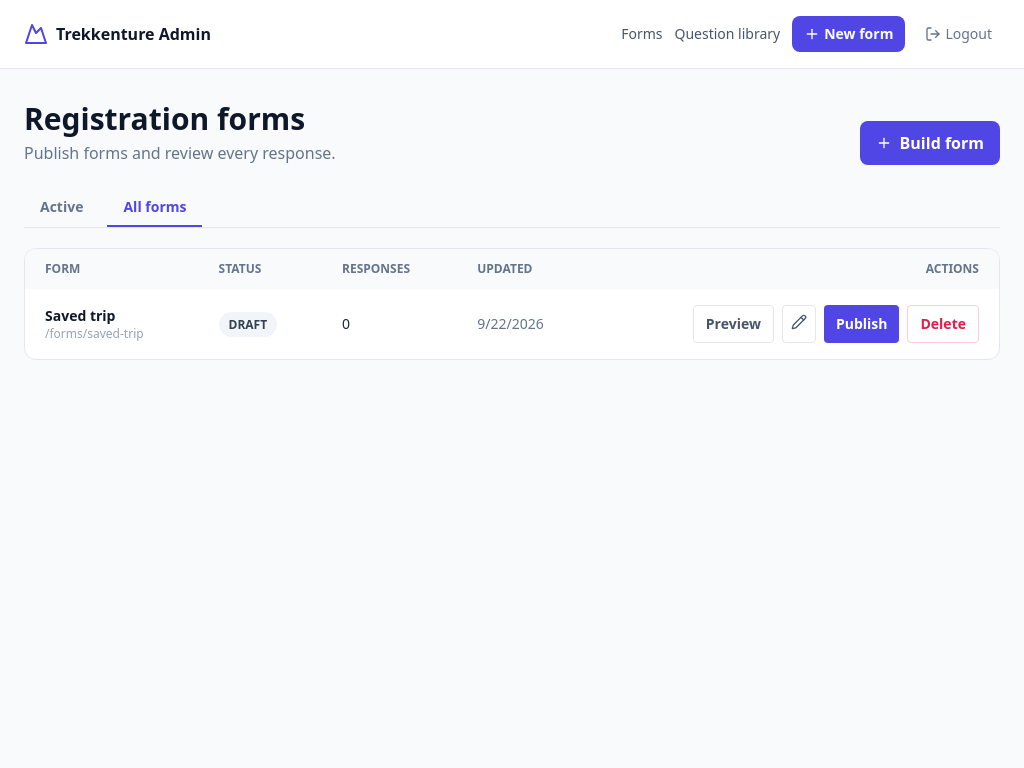
application integration › previews saved DRAFT snapshots from the dashboard without enabling submissions
The image size is (1024, 768).
Click the link "Preview" at (733, 324), box top-left (693, 305), bottom-right (774, 343)
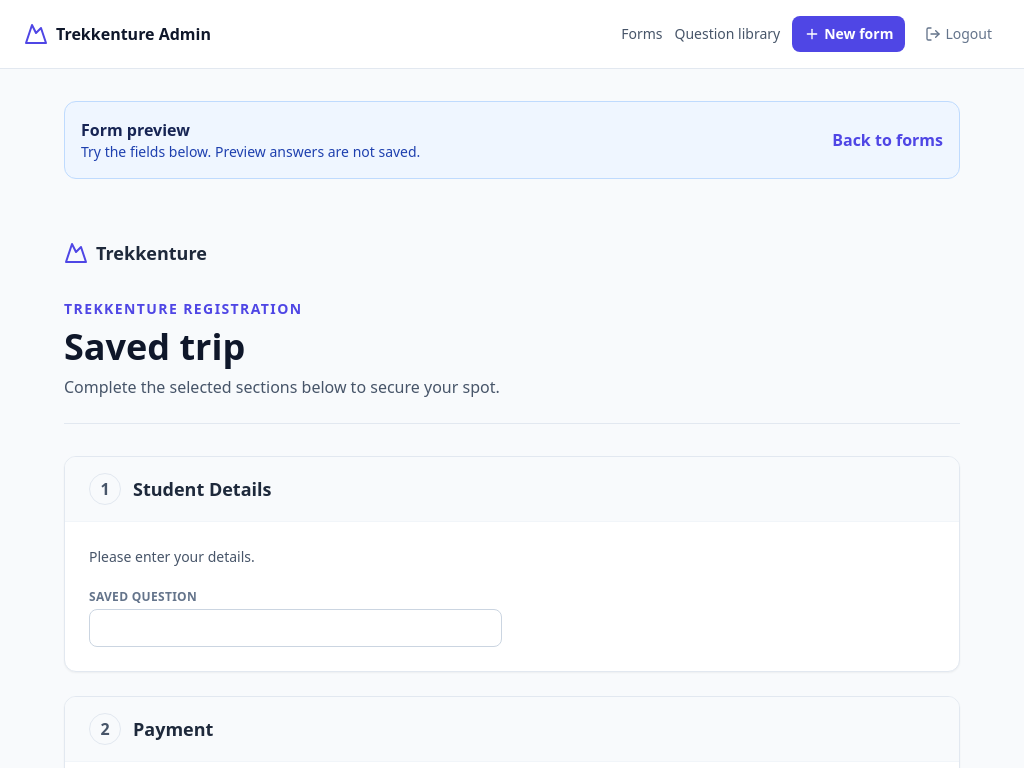
Type "Preview answer" into the field labelled "Saved question" at (296, 628), box top-left (89, 609), bottom-right (502, 647)
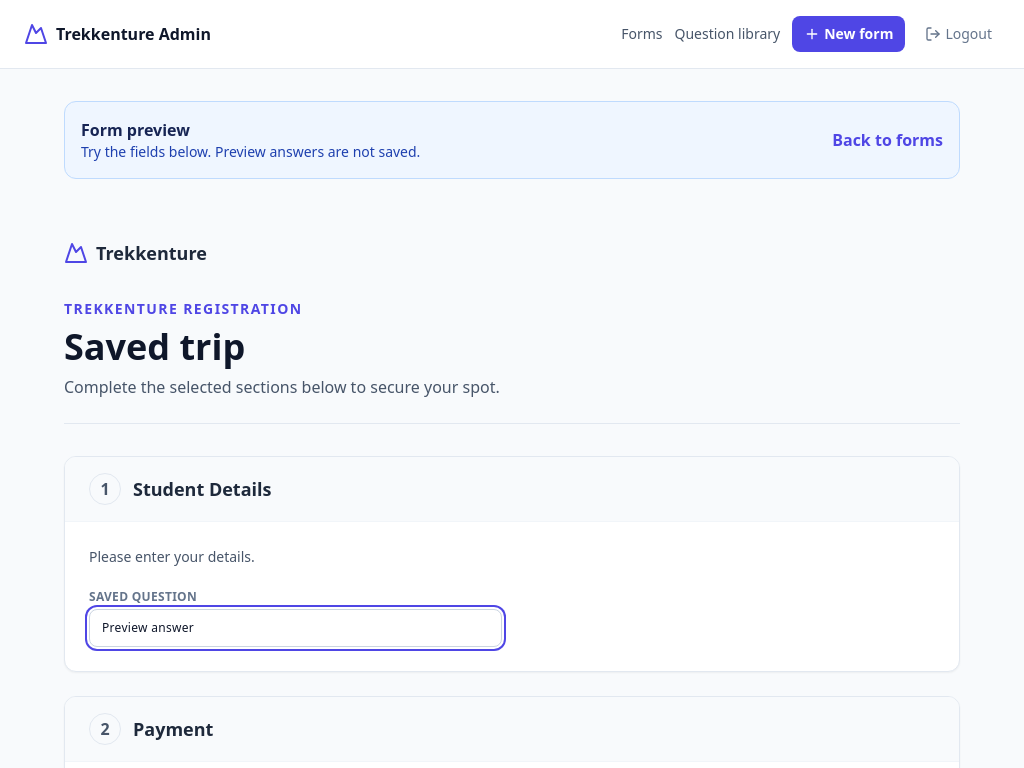
Click the link "Back to forms" at (888, 140), box top-left (832, 128), bottom-right (943, 152)
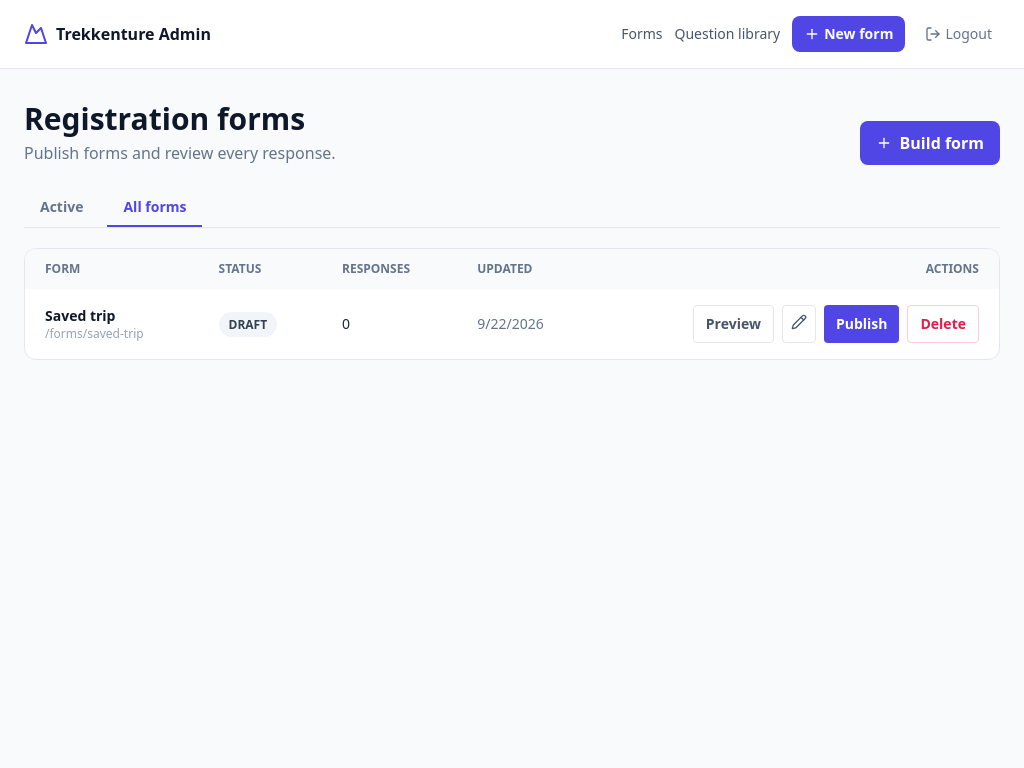
expect the text "DRAFT" is shown: met, box top-left (218, 312), bottom-right (277, 337)
